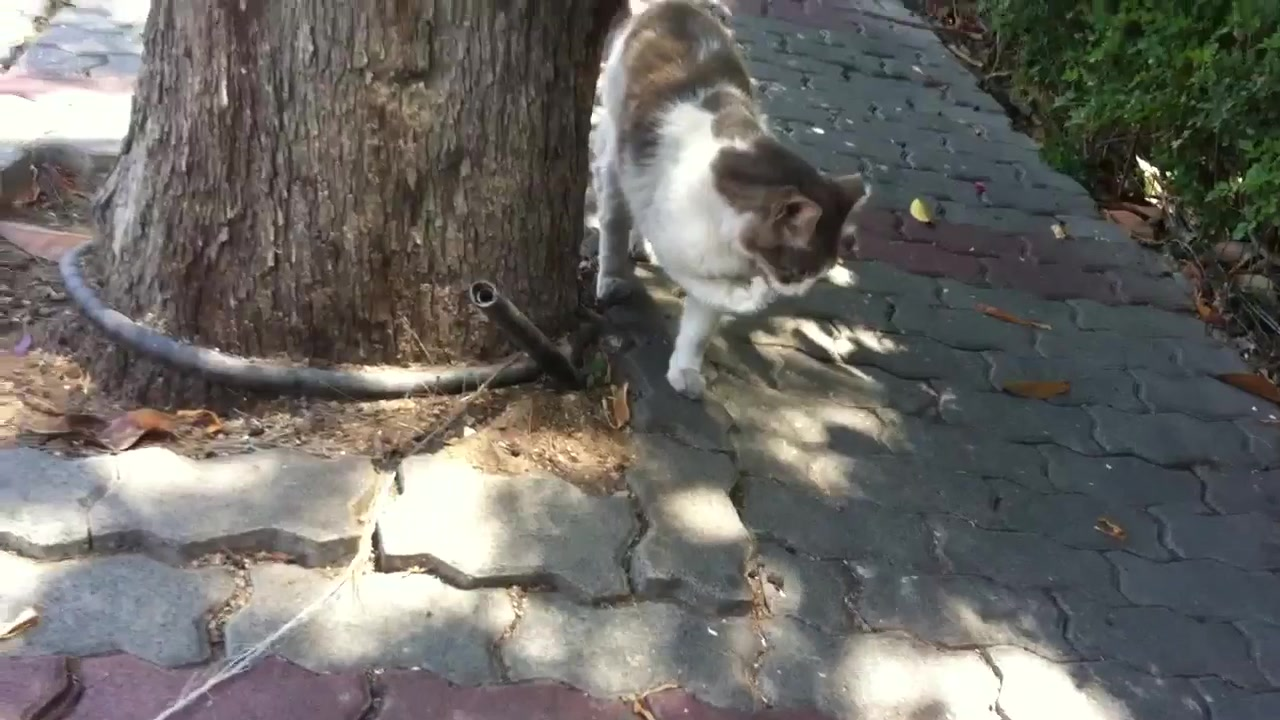cat: (599, 3, 870, 400)
